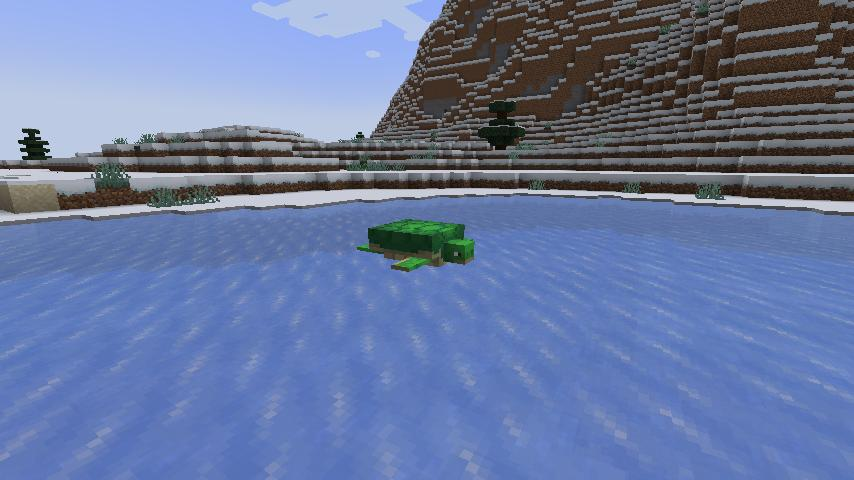turtle: (357, 214, 478, 277)
